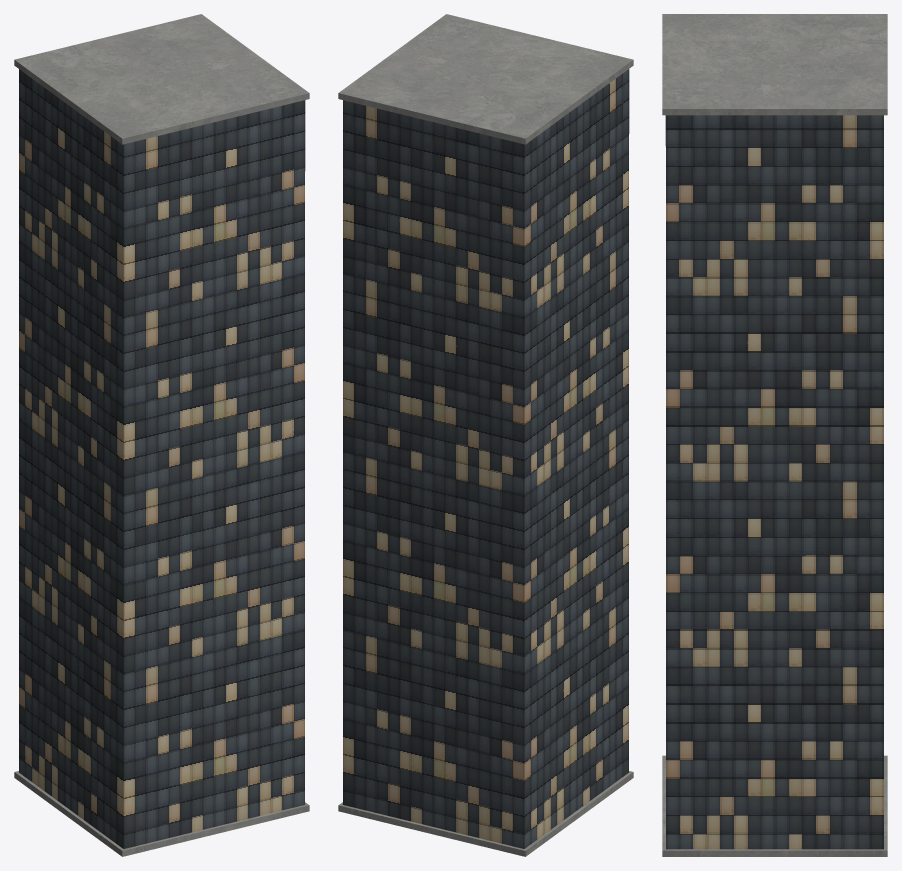
The model's file is building_05.1.glb.
3 renders of one model, left to right at view 1: azimuth 30°, elevation 25°; view 2: azimuth 150°, elevation 25°; view 3: azimuth 270°, elevation 25°, orthographic. The views are drawn at different scales.
Parts seen in each view (by area): view 1: building_05_12; view 2: building_05_12; view 3: building_05_12.
Part boxes in pixels (<box>): building_05_12: <box>14,14,309,856</box>; building_05_12: <box>338,14,633,856</box>; building_05_12: <box>662,14,887,856</box>.
Size of the model in its own units: 33 by 121 by 33.
Materials: 1 (1 with a texture image).
